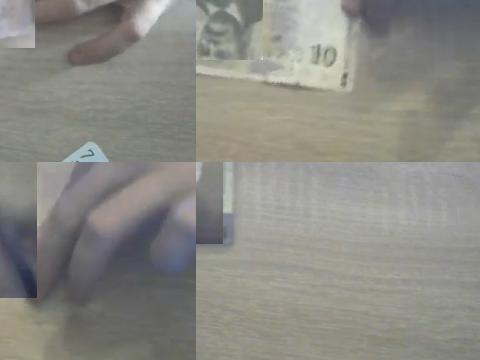10leva: (196, 0, 262, 60)
